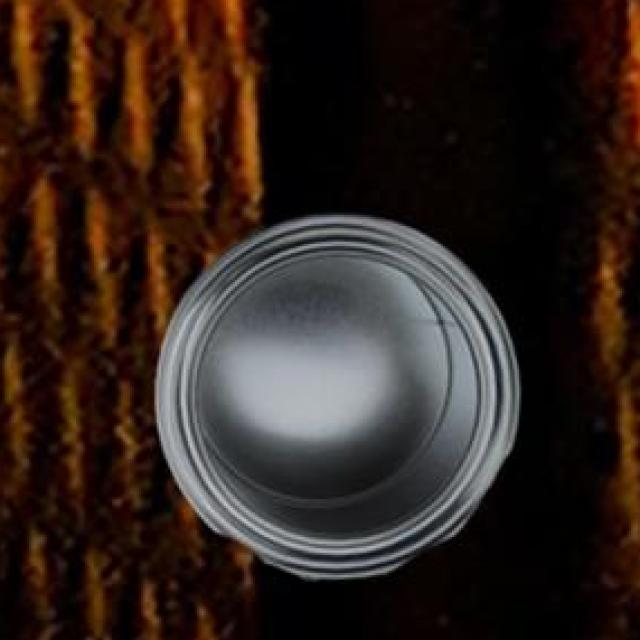logam: (160, 211, 520, 576)
